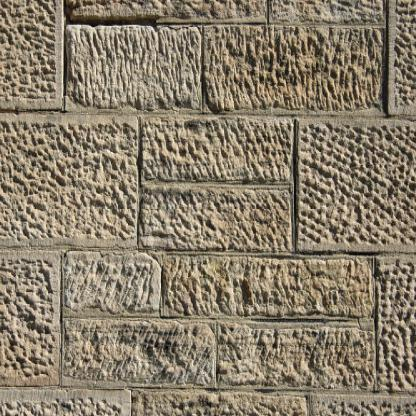Sedimentary_Sandstone: (132, 113, 300, 258), (0, 94, 148, 258), (194, 5, 390, 125), (160, 228, 378, 324), (296, 100, 415, 266), (210, 305, 380, 407), (61, 11, 213, 116), (54, 306, 222, 398), (0, 230, 74, 405), (58, 239, 166, 332), (0, 0, 72, 112)
